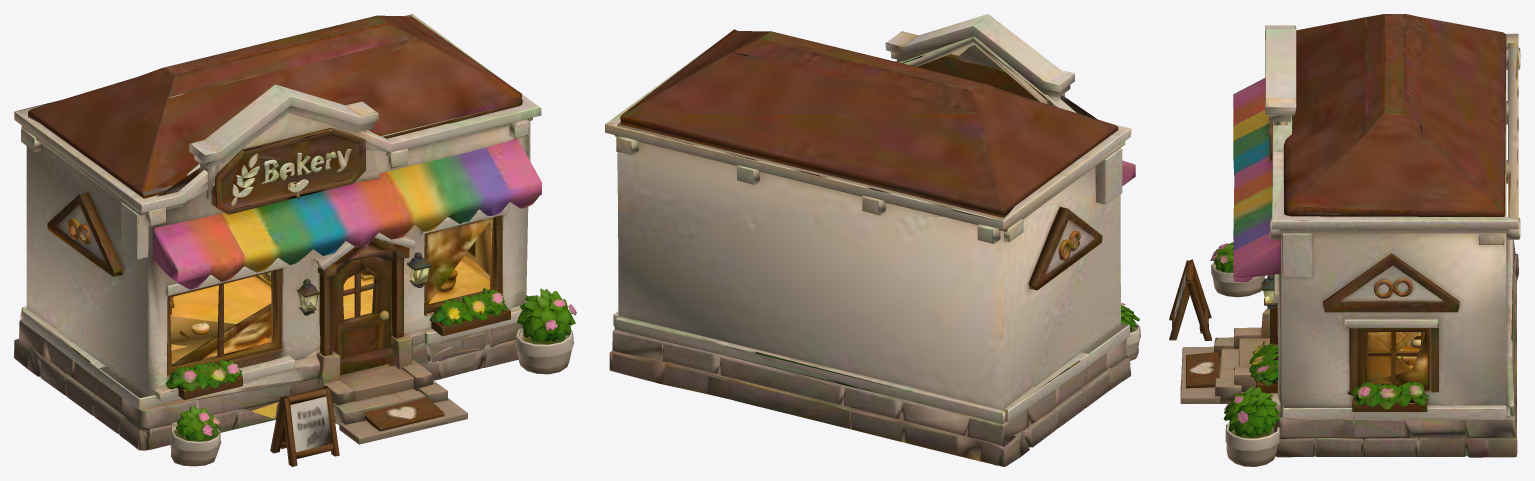
Rendered from bakery.glb.
3 renders of one model, left to right at view 1: azimuth 30°, elevation 25°; view 2: azimuth 150°, elevation 25°; view 3: azimuth 270°, elevation 25°, orthographic. The views are drawn at different scales.
Parts seen in each view (by area): view 1: geometry_0; view 2: geometry_0; view 3: geometry_0.
Boxes of the visible parts, left/top/right/bottom form: geometry_0: left=14, top=14, right=576, bottom=466; geometry_0: left=605, top=14, right=1140, bottom=466; geometry_0: left=1169, top=14, right=1520, bottom=466.
Bounding box in the file's own units: 0.9497 × 0.6978 × 0.708.
Materials: 1 (1 with a texture image).
